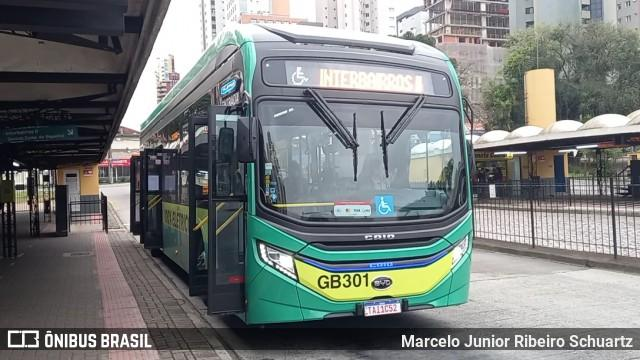INTERBAIRROS II: (315, 64, 429, 95)
